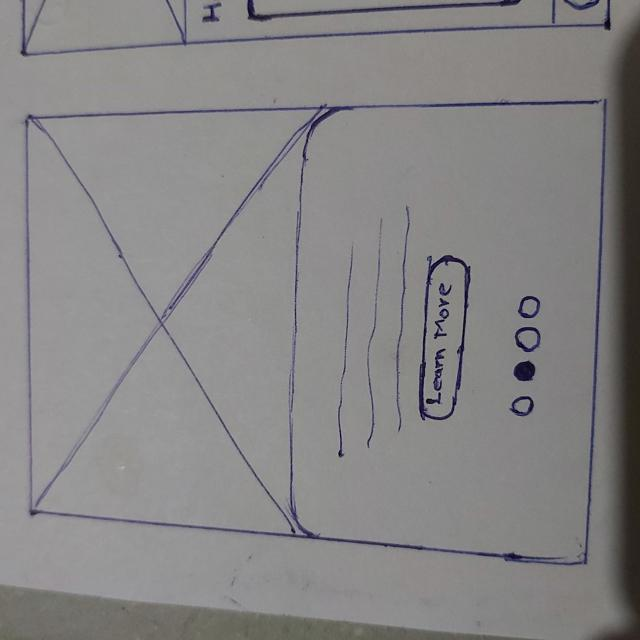Button: (418, 250, 469, 424)
Icon: (513, 324, 546, 353), (506, 395, 537, 417), (512, 360, 538, 384), (519, 295, 541, 319)
Image: (27, 115, 299, 531)
MainLayout: (19, 97, 609, 573)
MultiLineText: (328, 197, 410, 459)
SliderView: (31, 118, 588, 525)
